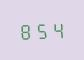eight: (18, 20, 32, 40)
five: (34, 20, 48, 39)
four: (49, 19, 63, 39)
